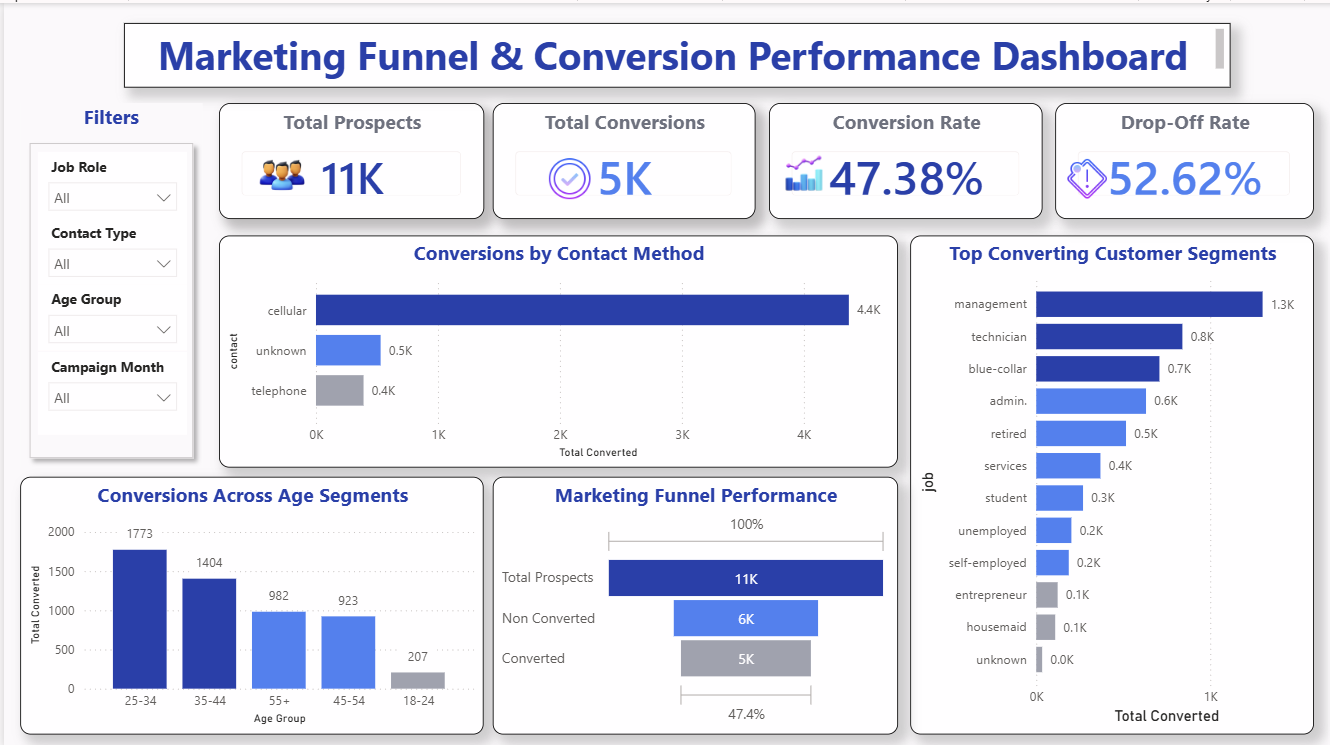

The page's visual inventory and layout, read from the dashboard file:
{"tool":"powerbi","page":{"name":"Page 1","canvas":[1280,720],"ordinal":0},"visuals":[{"type":"cardVisual","title":"Total Prospects","fields":{"Data":["bank.Total Prospects"]},"box":[208,96,256,112],"z":0},{"type":"textbox","box":[115.8,19.3,1067.7,62.7],"z":1000},{"type":"cardVisual","title":"Total Conversions","fields":{"Data":["bank.Total Conversions"]},"box":[485.3,96,240,112],"z":2000},{"type":"cardVisual","title":"Conversion Rate","fields":{"Data":["bank.Conversion Rate"]},"box":[746.7,96,256,112],"z":3000},{"type":"cardVisual","title":"Avg Call Duration","fields":{"Data":["bank.Avg Call Duration"]},"box":[1024,96,240,112],"z":4000},{"type":"clusteredBarChart","title":"Conversion by Contact Method","fields":{"Category":["bank.contact"],"Y":["bank.Total Converted"]},"box":[207.5,224.4,567,223.2],"z":5000},{"type":"clusteredBarChart","title":"Conversion by Job Role","fields":{"Category":["bank.job"],"Y":["bank.Total Converted"]},"box":[789,224.4,475.3,223.2],"z":6000},{"type":"clusteredColumnChart","title":"Conversion by Age Group","fields":{"Y":["bank.Total Converted"],"Category":["bank.Age Group"]},"box":[15.7,465.7,447.6,240.1],"z":7000},{"type":"donutChart","title":"Conversion Rate Distribution","fields":{"Category":["bank.Conversion"],"Y":["bank.Prospects"]},"box":[474.1,465.7,300.4,240.1],"z":8000},{"type":"textbox","box":[789,465.7,475.3,240.1],"z":12000},{"type":"shape","title":"Filters","box":[16,96,176,352],"z":13000},{"type":"slicer","fields":{"Values":["bank.job"]},"box":[32,144,144,64],"z":14500},{"type":"slicer","fields":{"Values":["bank.contact"]},"box":[32,208,144,64],"z":15000},{"type":"slicer","fields":{"Values":["bank.Age Group"]},"box":[32,272,144,64],"z":15500},{"type":"slicer","fields":{"Values":["bank.month"]},"box":[32,336,144,80],"z":16000}]}

Visuals, with their boxes in screenshot pixels (x1, y1, x2, y2), scaled from the page's 1280x720 canvas onto the 1330x745 screenshot:
"Total Prospects" cardVisual: (left=216, top=99, right=482, bottom=215)
textbox: (left=120, top=20, right=1230, bottom=85)
"Total Conversions" cardVisual: (left=504, top=99, right=754, bottom=215)
"Conversion Rate" cardVisual: (left=776, top=99, right=1042, bottom=215)
"Avg Call Duration" cardVisual: (left=1064, top=99, right=1313, bottom=215)
"Conversion by Contact Method" clusteredBarChart: (left=216, top=232, right=805, bottom=463)
"Conversion by Job Role" clusteredBarChart: (left=820, top=232, right=1314, bottom=463)
"Conversion by Age Group" clusteredColumnChart: (left=16, top=482, right=481, bottom=730)
"Conversion Rate Distribution" donutChart: (left=493, top=482, right=805, bottom=730)
textbox: (left=820, top=482, right=1314, bottom=730)
"Filters" shape: (left=17, top=99, right=200, bottom=464)
slicer - bank.job: (left=33, top=149, right=183, bottom=215)
slicer - bank.contact: (left=33, top=215, right=183, bottom=281)
slicer - bank.Age Group: (left=33, top=281, right=183, bottom=348)
slicer - bank.month: (left=33, top=348, right=183, bottom=430)
